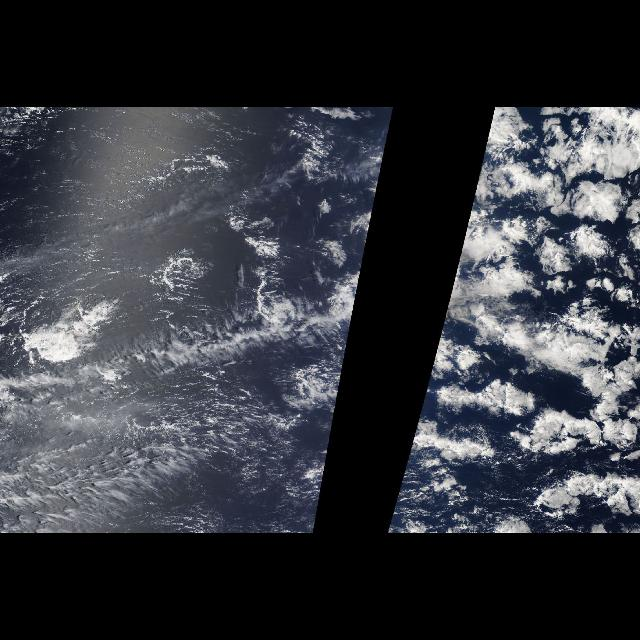Fish: (1, 281, 356, 533)
Flower: (388, 114, 640, 534), (266, 114, 392, 528)
Gravel: (19, 136, 377, 534)
